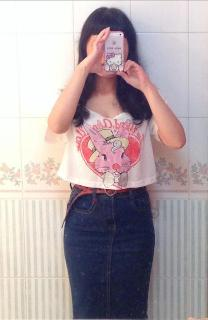short sleeve top: (44, 84, 174, 190)
skirt: (63, 182, 156, 320)
